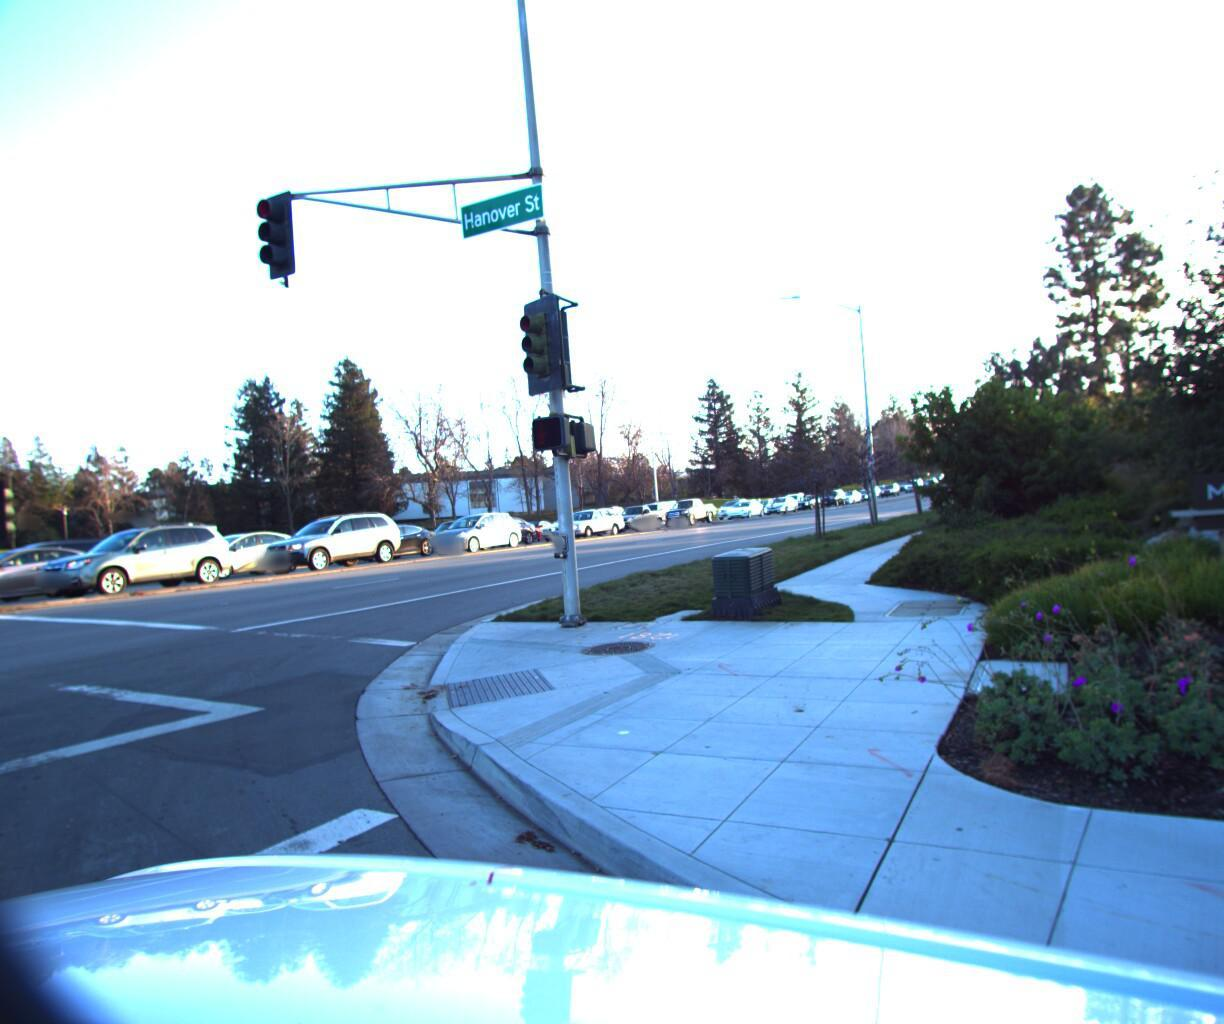car: (20, 513, 239, 602), (0, 528, 146, 605), (247, 505, 407, 576), (0, 537, 127, 612), (157, 523, 311, 581), (317, 516, 443, 566), (417, 505, 526, 556), (541, 500, 627, 540), (450, 513, 539, 548), (414, 513, 492, 549), (533, 504, 612, 540), (607, 500, 670, 532), (491, 515, 559, 542), (658, 499, 716, 525), (722, 496, 764, 518), (713, 496, 754, 516), (761, 492, 799, 513)
